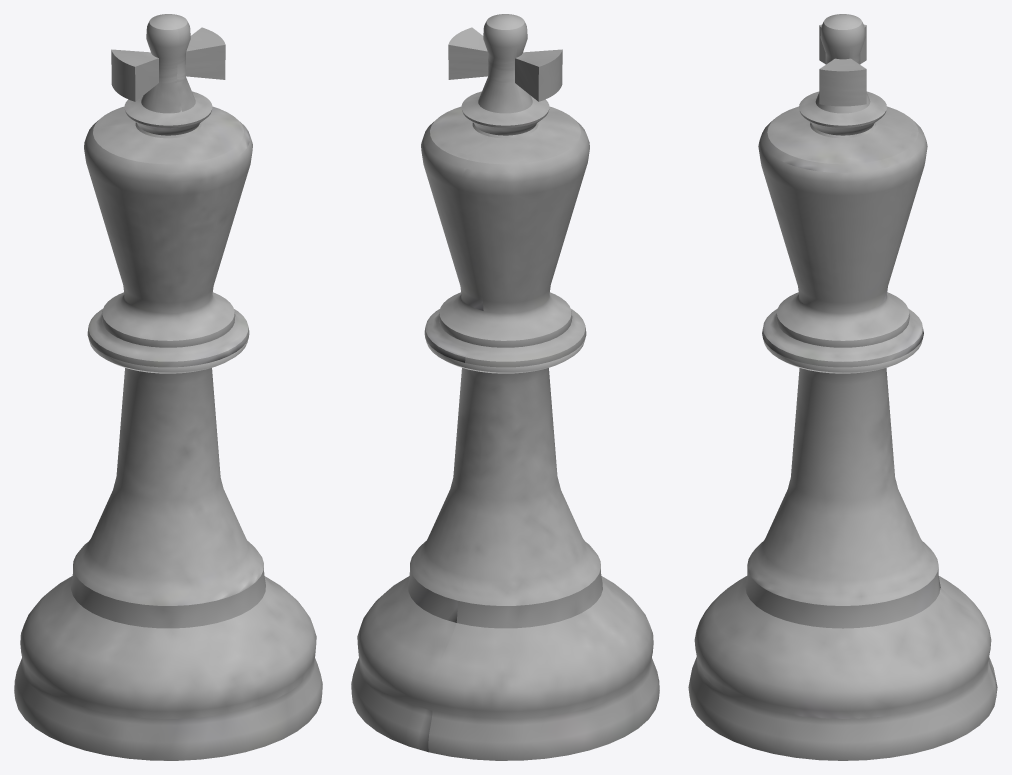
File: rey_Blanca.glb
3 renders of one model, left to right at view 1: azimuth 30°, elevation 25°; view 2: azimuth 150°, elevation 25°; view 3: azimuth 270°, elevation 25°, orthographic.
Parts seen in each view (by area): view 1: defaultMaterial.002; view 2: defaultMaterial.002; view 3: defaultMaterial.002.
Boxes of the visible parts, x1,y1,x2,y2 form: defaultMaterial.002: (14,14,322,760); defaultMaterial.002: (351,14,659,760); defaultMaterial.002: (688,14,997,760).
Size of the model in its own units: 0.8213 by 2.01 by 0.8213.
Materials: 1 (1 with a texture image).
